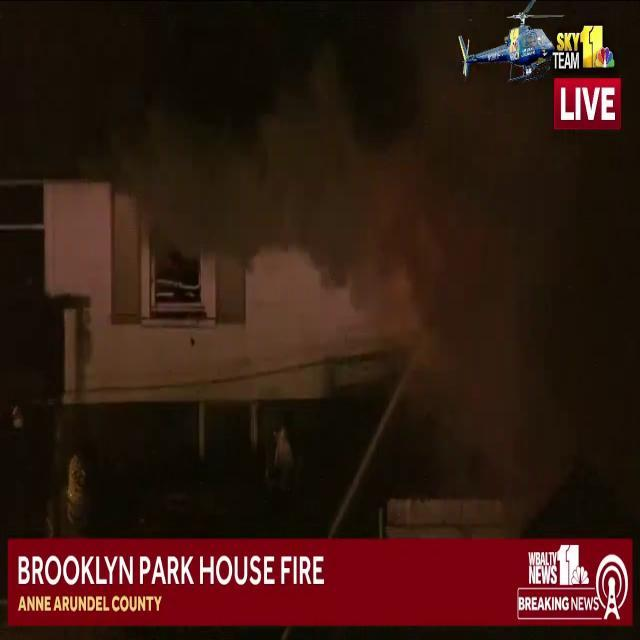Smoke: (116, 0, 479, 282), (383, 70, 620, 477)
